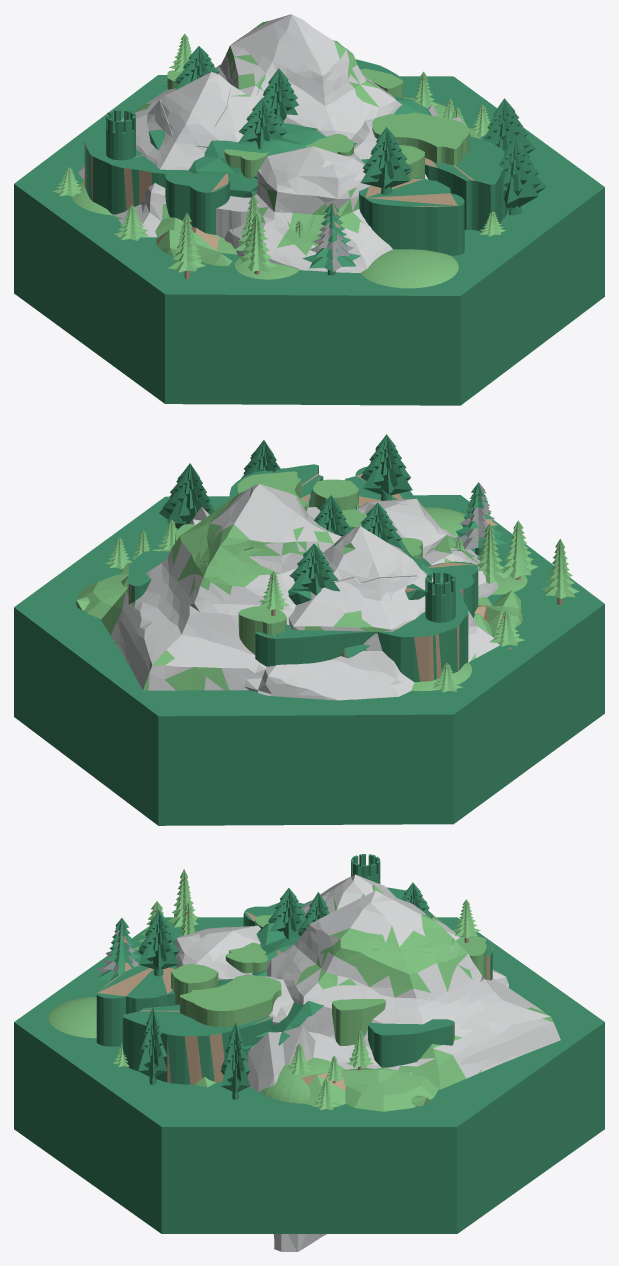
The model's file is mounts_4.glb.
The picture shows the model from 3 angles, top to bottom: view 1: azimuth 30°, elevation 25°; view 2: azimuth 150°, elevation 25°; view 3: azimuth 270°, elevation 25°; orthographic projection. The views are drawn at different scales.
Visible parts, largest first — view 1: Mesh_Mesh_head_geo.001_lambert2SG.001; view 2: Mesh_Mesh_head_geo.001_lambert2SG.001; view 3: Mesh_Mesh_head_geo.001_lambert2SG.001.
Boxes of the visible parts, left/top/right/bottom form: Mesh_Mesh_head_geo.001_lambert2SG.001: left=14, top=14, right=604, bottom=405; Mesh_Mesh_head_geo.001_lambert2SG.001: left=14, top=434, right=604, bottom=825; Mesh_Mesh_head_geo.001_lambert2SG.001: left=14, top=854, right=604, bottom=1251.
Bounding box in the file's own units: 84 × 52 × 100.
